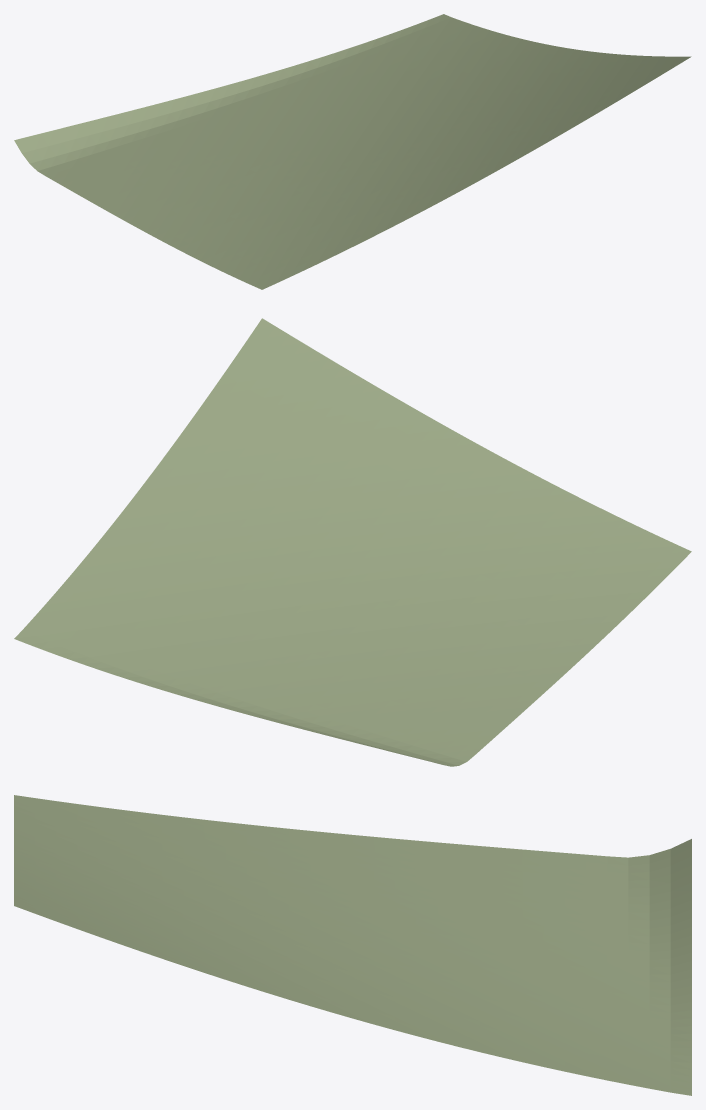
Rendered from alpine-5-3.glb.
3 views of the same model, one above another, from view 1: azimuth 30°, elevation 25°; view 2: azimuth 150°, elevation 25°; view 3: azimuth 270°, elevation 25° (orthographic). The views are drawn at different scales.
Visible parts, largest first — view 1: alpine-5-3; view 2: alpine-5-3; view 3: alpine-5-3.
Part boxes in pixels (x1,y1,x2,y2): alpine-5-3: (14, 14, 691, 289); alpine-5-3: (14, 318, 691, 766); alpine-5-3: (14, 795, 691, 1095).
Size of the model in its own units: 256 by 99.21 by 256.
